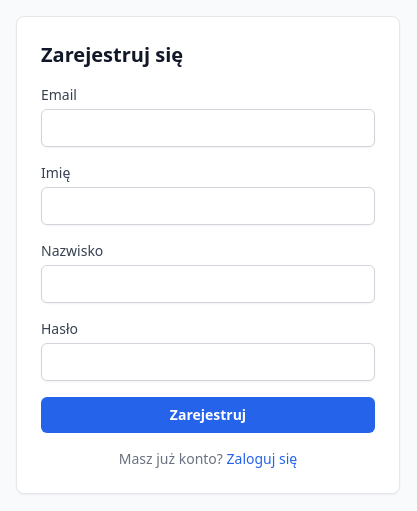
it: SignupPage (integration) › shows loading state during submission
Type "new@example.com" into the field labelled "Email" at (208, 128), box [41,109,375,147]
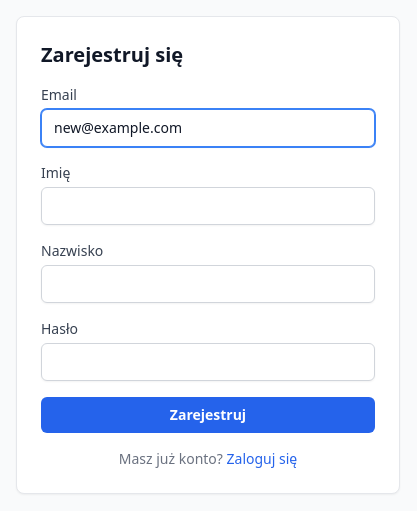
Type "secure123" into the password field labelled "Hasło" at (208, 362), box [41,343,375,381]
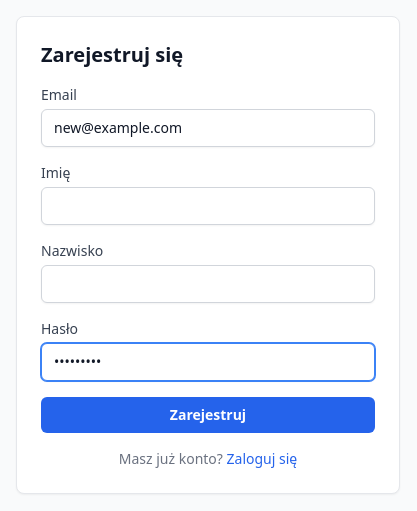
Type "Jan" into the field labelled "Imię" at (208, 206), box [41,187,375,225]
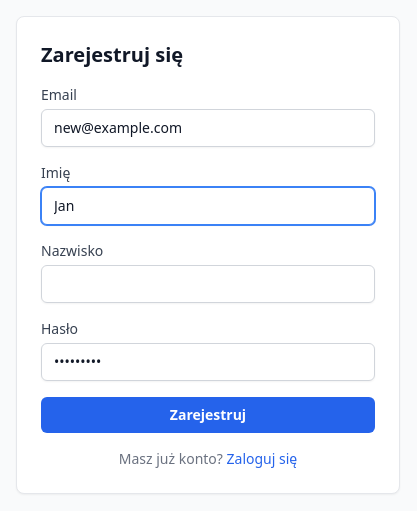
Type "Kowalski" into the field labelled "Nazwisko" at (208, 284), box [41,265,375,303]
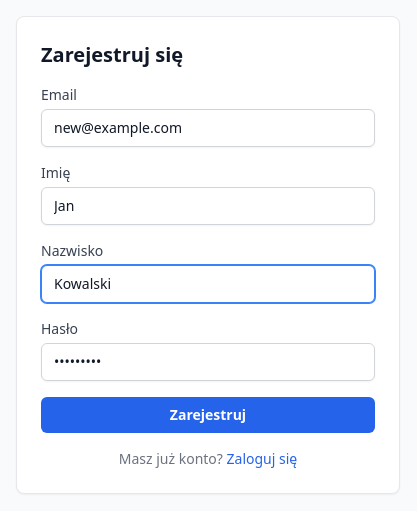
Click the button "Zarejestruj" at (208, 415), box [41,397,375,433]
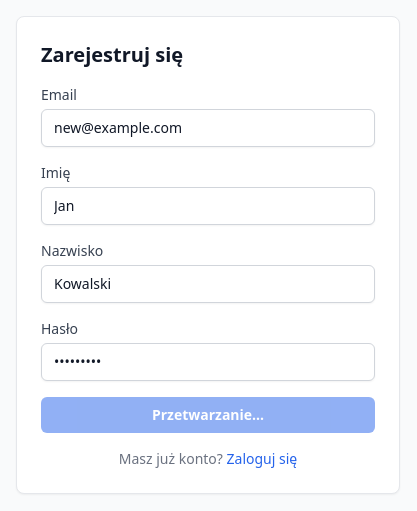
Now the button "Przetwarzanie..." is disabled, box [41,397,375,433]
